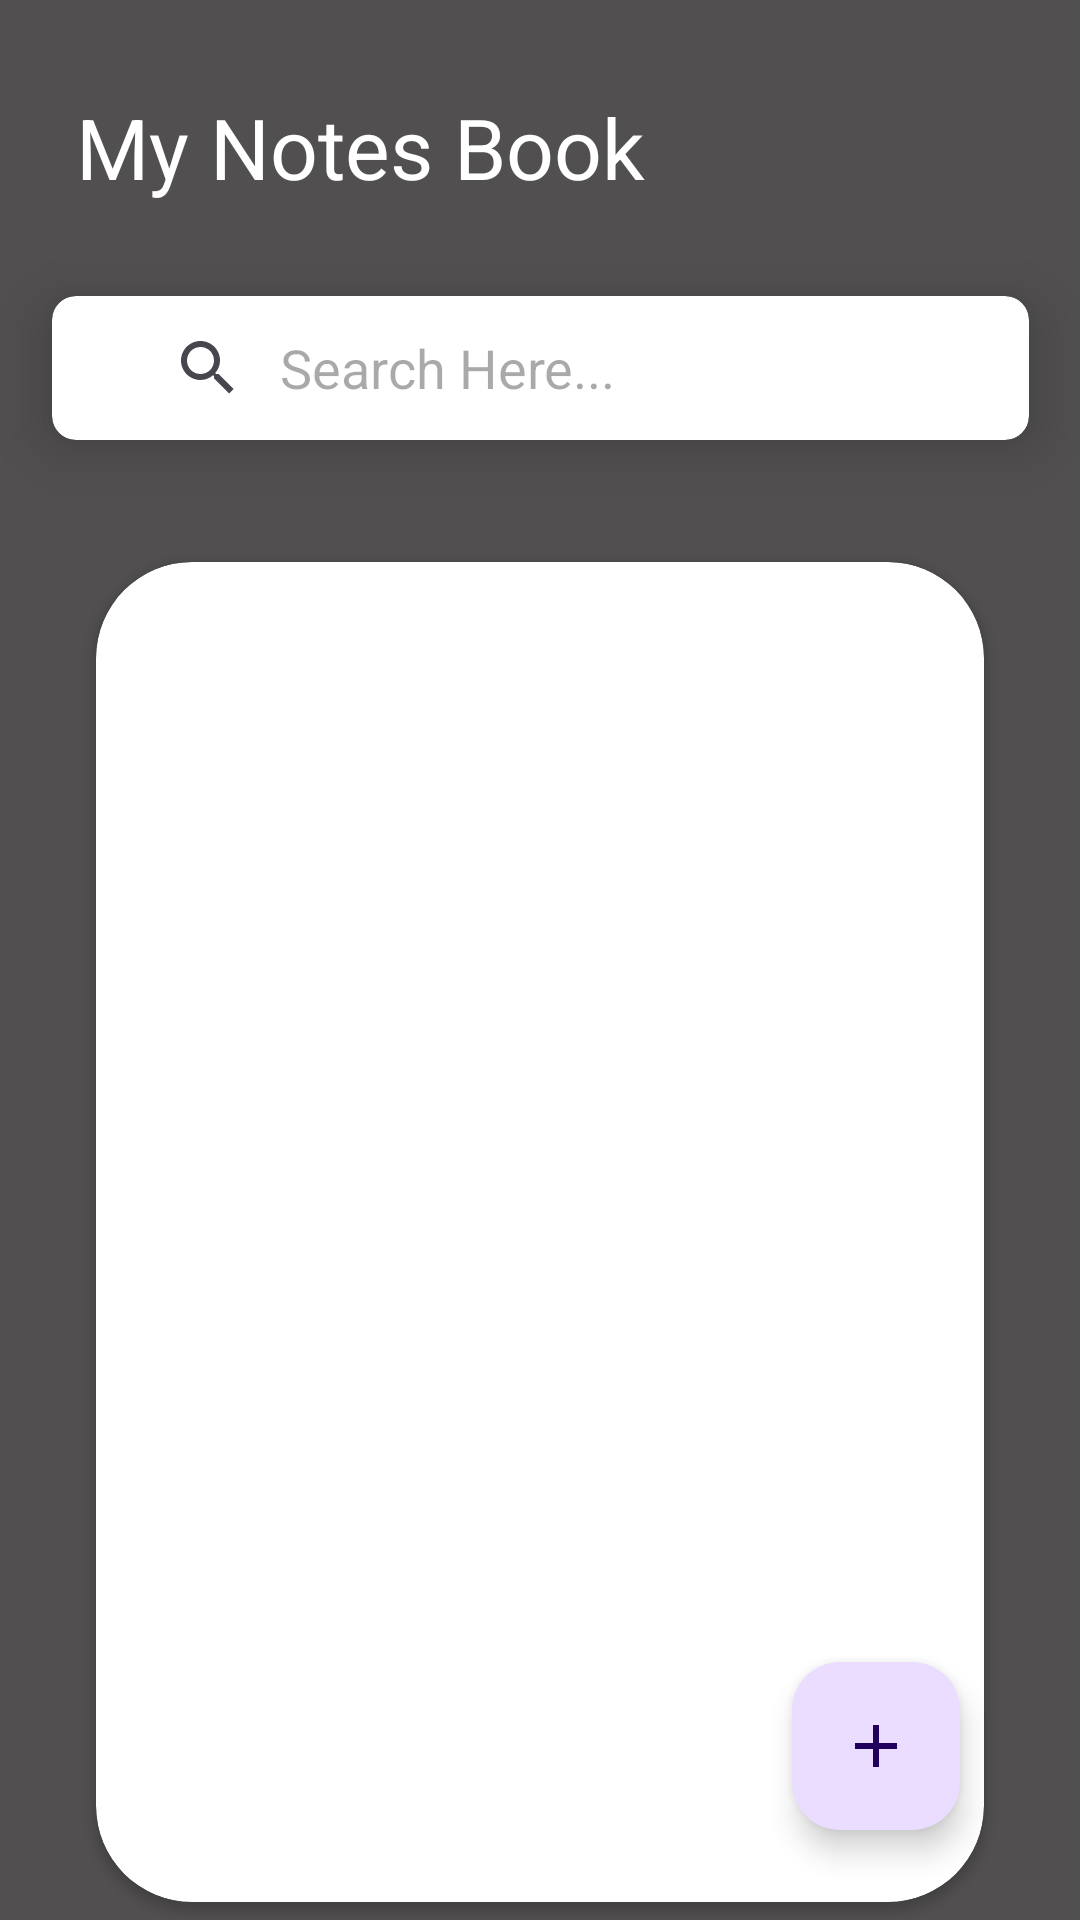

Named icons in this screenshot (1080w x 1920h) and their centers, (x,y):
add: (876,1746)
